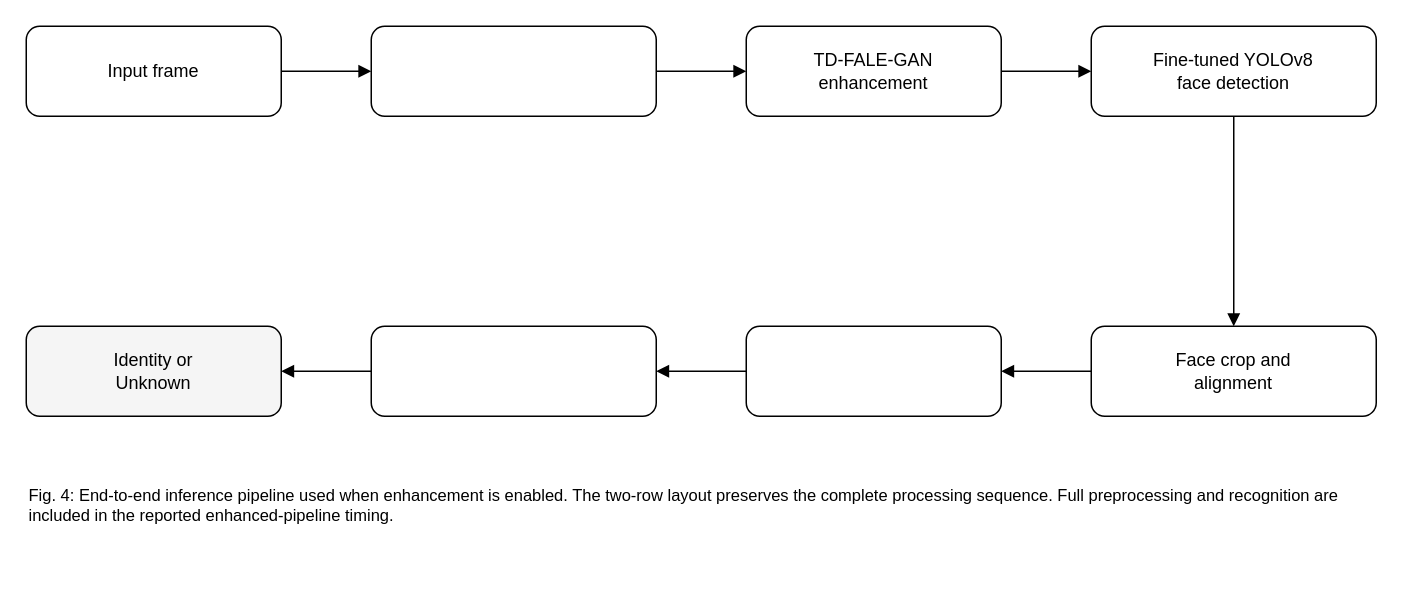
The diagram is 1403 pixels wide and 593 high, and some of its shapes have lost their labels. Here are the shapes that lost their labels. From the top down, the centre of each, then its label:
(x=513, y=70): Brightness estimate and initial face mask
(x=513, y=370): Gallery matching and thresholding
(x=873, y=370): ArcFace embedding
